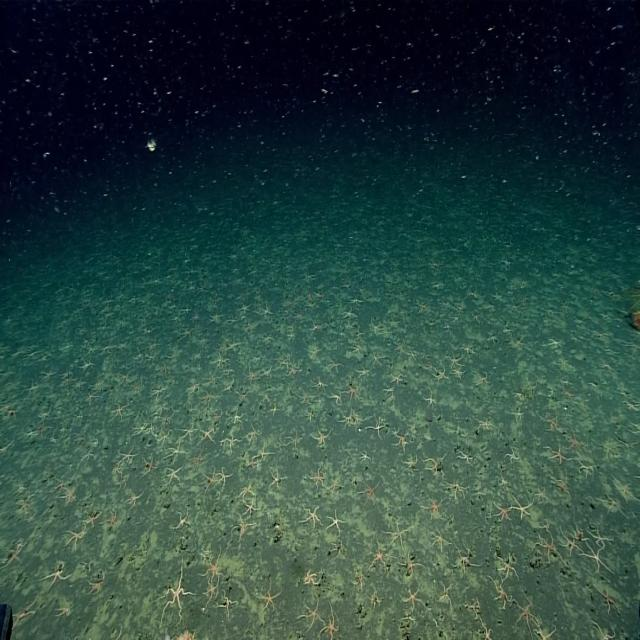brittle-stars: (152, 552, 199, 628), (0, 582, 46, 640), (509, 583, 544, 640), (380, 513, 420, 558), (0, 530, 31, 584), (395, 580, 434, 619), (295, 595, 330, 637), (255, 574, 287, 618), (536, 524, 564, 574), (581, 536, 614, 577), (321, 586, 346, 640), (593, 430, 629, 466), (38, 558, 76, 592), (450, 544, 484, 580), (396, 549, 429, 584), (600, 487, 628, 528), (421, 442, 450, 481), (424, 522, 457, 556), (590, 605, 622, 640), (489, 570, 515, 613), (85, 568, 114, 606), (295, 500, 324, 538), (510, 488, 536, 529), (200, 544, 224, 588), (51, 590, 78, 628), (534, 607, 564, 640), (358, 474, 381, 516), (369, 534, 388, 583), (562, 428, 590, 460), (595, 584, 622, 617), (562, 528, 586, 565), (164, 436, 193, 465), (64, 523, 92, 553), (254, 438, 282, 468), (422, 489, 450, 519), (242, 420, 268, 452), (543, 442, 575, 468), (58, 483, 82, 517), (298, 562, 325, 592), (496, 553, 526, 580), (491, 498, 514, 533), (478, 600, 498, 640), (220, 587, 241, 625), (366, 410, 388, 446), (231, 514, 259, 542), (308, 422, 334, 452), (462, 590, 488, 620), (438, 572, 457, 612), (588, 522, 616, 549), (325, 504, 347, 538), (283, 425, 307, 456), (140, 453, 162, 486), (204, 573, 225, 607), (305, 464, 328, 495), (351, 566, 373, 598), (202, 361, 223, 394), (338, 403, 356, 440), (200, 466, 222, 496), (552, 468, 574, 498), (455, 441, 477, 471), (107, 613, 131, 640), (188, 445, 212, 472), (172, 505, 194, 534), (352, 444, 375, 471), (150, 397, 177, 420), (543, 407, 563, 438), (15, 492, 38, 518), (116, 441, 142, 464), (218, 433, 244, 456), (429, 364, 452, 390), (504, 440, 526, 467), (238, 493, 262, 517), (109, 397, 132, 422), (446, 478, 468, 504), (328, 385, 347, 415), (104, 506, 125, 533), (226, 404, 247, 431), (325, 473, 345, 501), (420, 386, 440, 414), (216, 461, 234, 492), (328, 537, 351, 561), (85, 503, 104, 532), (325, 352, 346, 378), (239, 475, 257, 505), (509, 402, 528, 430), (571, 522, 595, 544), (166, 462, 187, 487), (182, 418, 200, 447), (472, 367, 490, 396), (268, 466, 286, 494), (80, 553, 100, 578), (295, 387, 321, 406), (198, 423, 220, 445), (577, 459, 599, 481), (147, 380, 171, 400), (343, 381, 362, 406), (52, 472, 72, 495), (128, 489, 148, 512), (370, 586, 387, 613), (533, 481, 550, 508), (403, 452, 422, 476), (476, 412, 496, 434), (224, 331, 244, 353), (80, 443, 99, 466), (395, 429, 410, 458), (380, 380, 401, 400), (302, 342, 323, 362), (242, 366, 263, 386), (232, 385, 252, 406), (220, 358, 238, 381), (354, 360, 374, 380), (273, 350, 293, 370), (444, 350, 466, 368), (220, 374, 237, 397), (260, 361, 275, 387), (117, 469, 133, 493), (195, 389, 219, 405), (244, 452, 260, 476), (133, 417, 150, 439), (159, 409, 176, 431), (158, 427, 176, 447), (352, 406, 367, 430), (390, 368, 410, 386), (560, 384, 580, 402), (284, 361, 301, 382), (447, 366, 468, 382), (300, 406, 318, 424), (213, 404, 232, 421), (14, 478, 31, 496), (540, 517, 556, 534), (73, 405, 87, 424), (391, 422, 406, 439), (313, 375, 330, 390), (189, 375, 201, 396), (498, 470, 509, 492), (113, 460, 125, 480), (422, 359, 438, 373), (248, 350, 264, 364), (87, 387, 100, 404), (26, 512, 42, 524), (148, 420, 158, 438)
